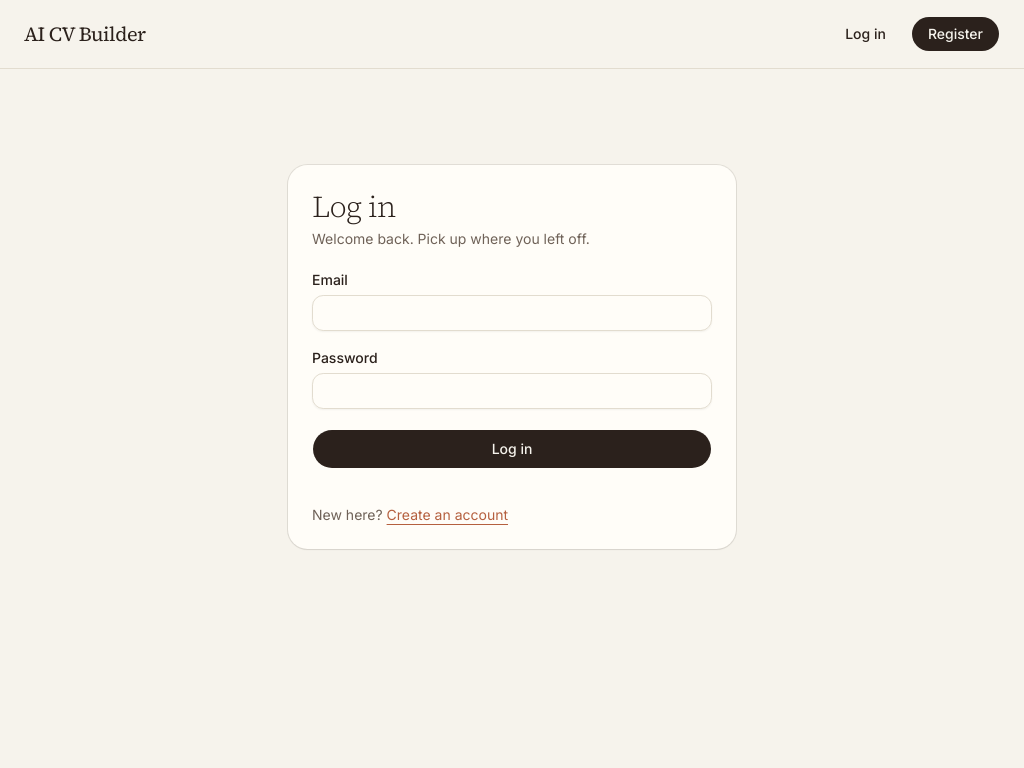
Test: AuthForm › shows the server message when login fails
Type "jordan@example.com" into the field labelled "Email" at (512, 313), box [312,295,712,331]
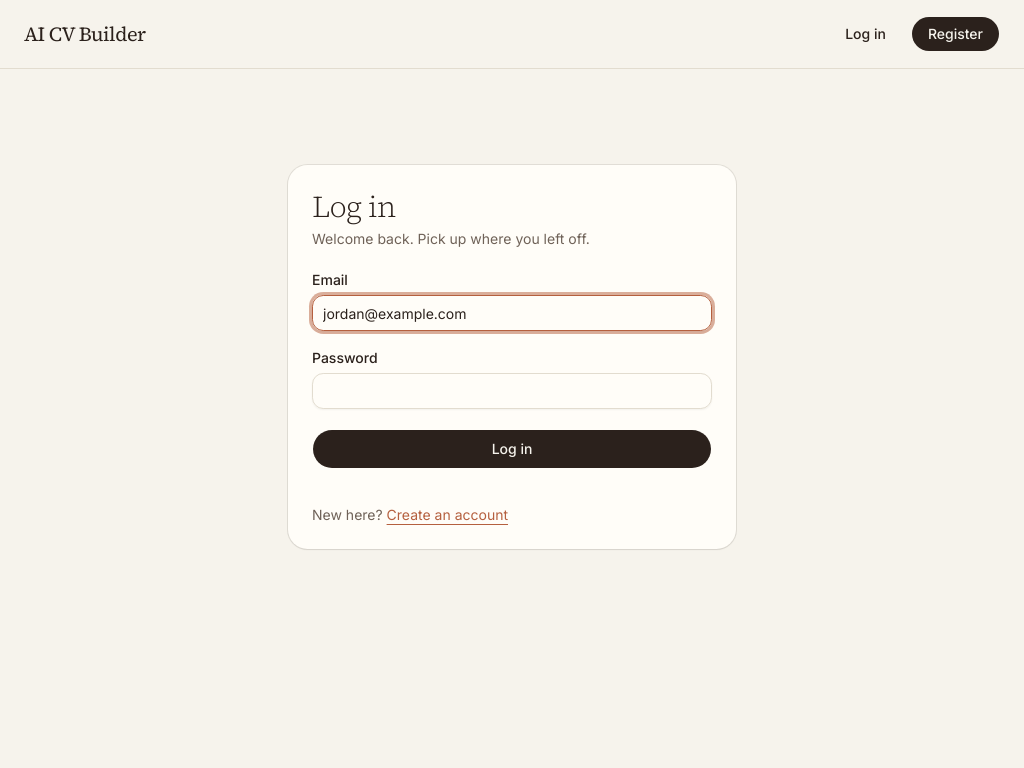
Type "wrong" into the password field labelled "Password" at (512, 391), box [312,373,712,409]
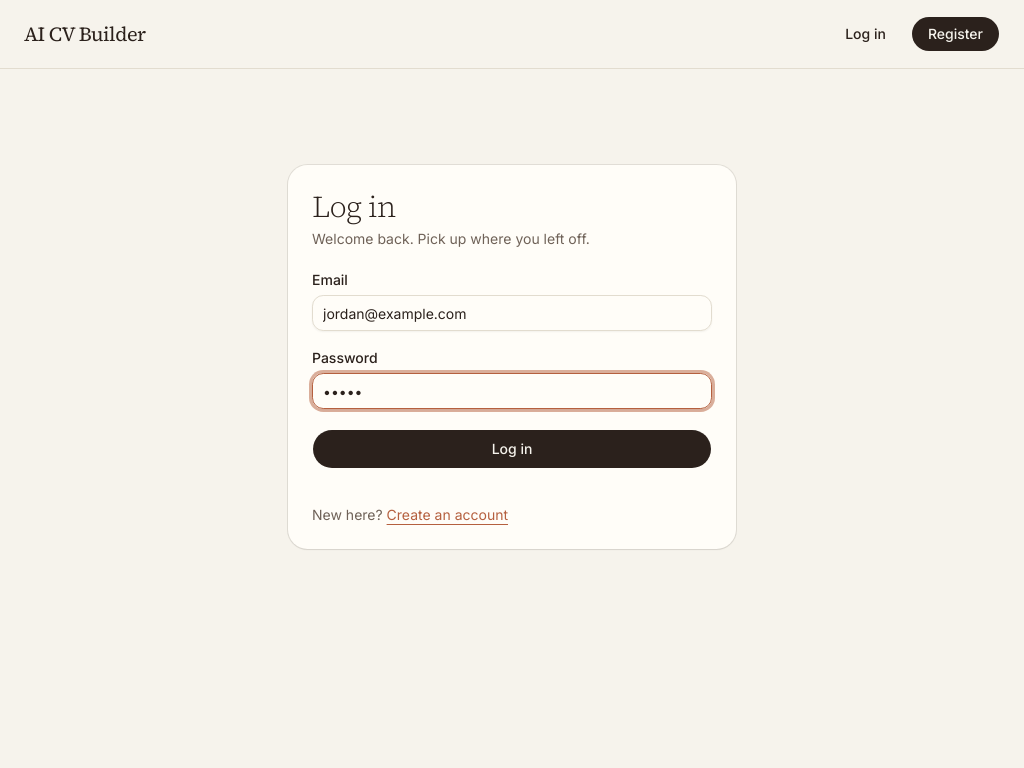
Click the button "Log in" at (512, 449), box [312,429,712,469]
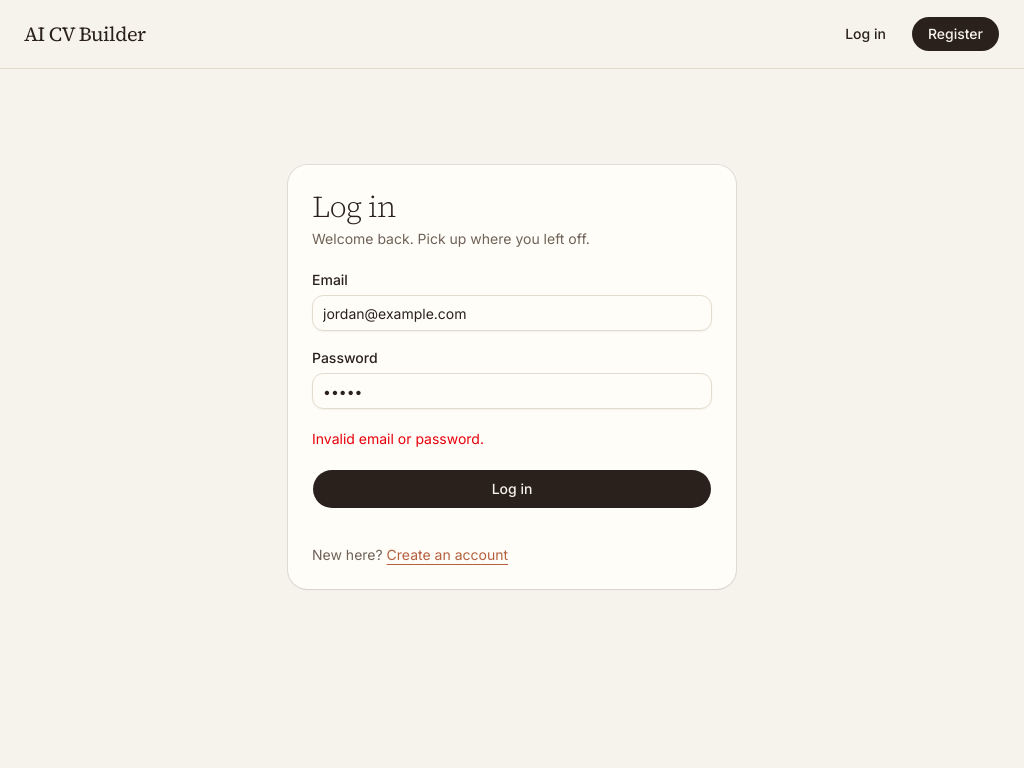
Now the message reads "Invalid email or password.", box [312,430,484,447]
